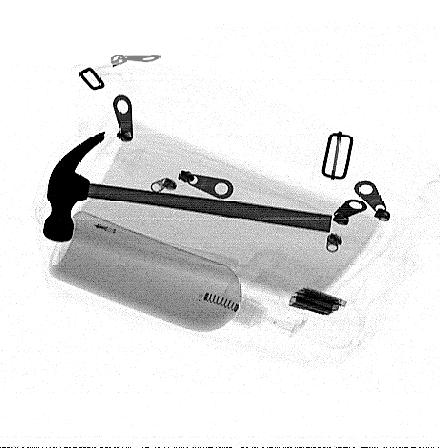Hammer: (43, 131, 332, 242)
